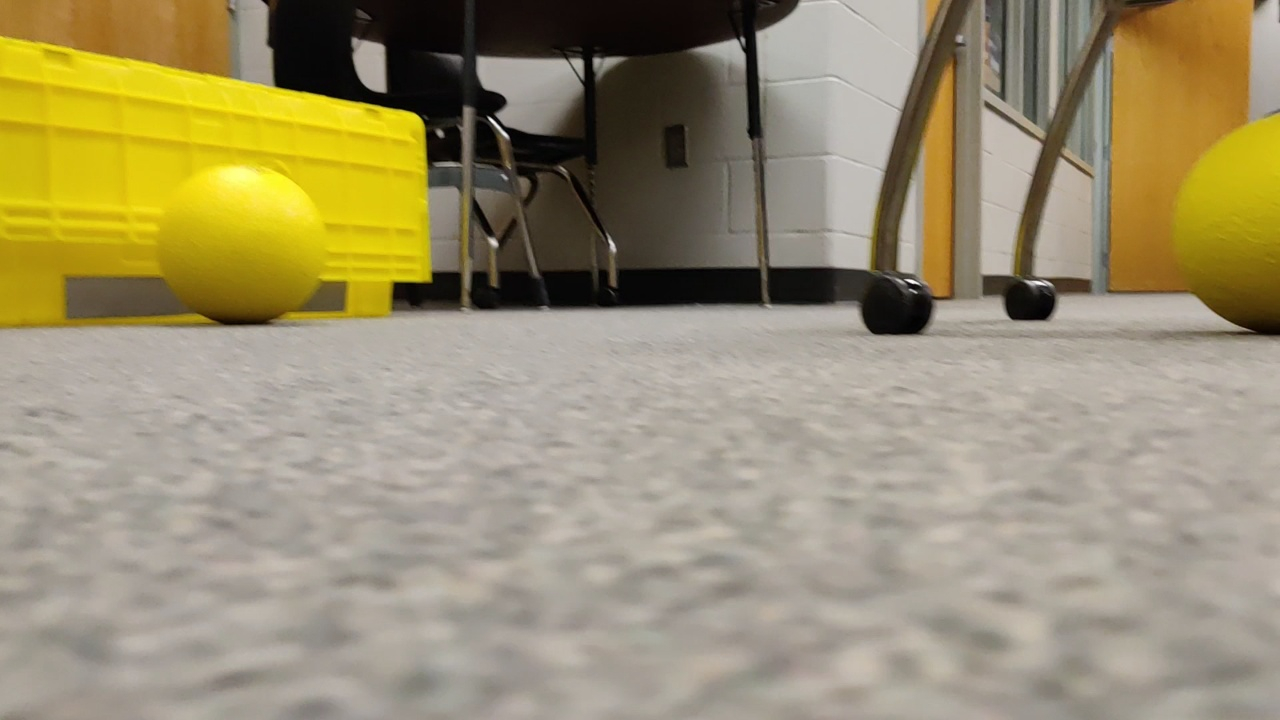Ball: (154, 166, 325, 322), (1168, 100, 1280, 335)
